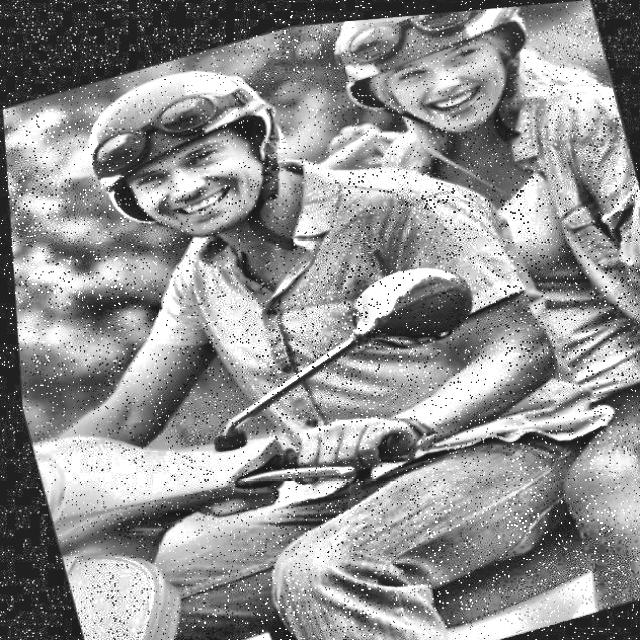Helmet: (62, 32, 315, 264), (315, 2, 558, 164)
